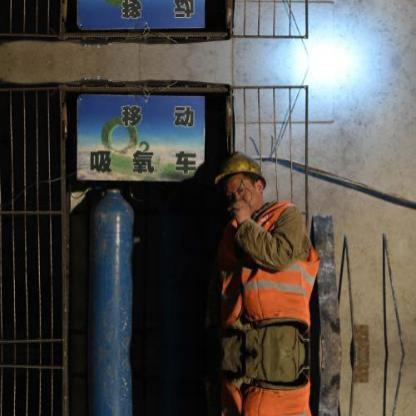helmet: (211, 144, 270, 219)
